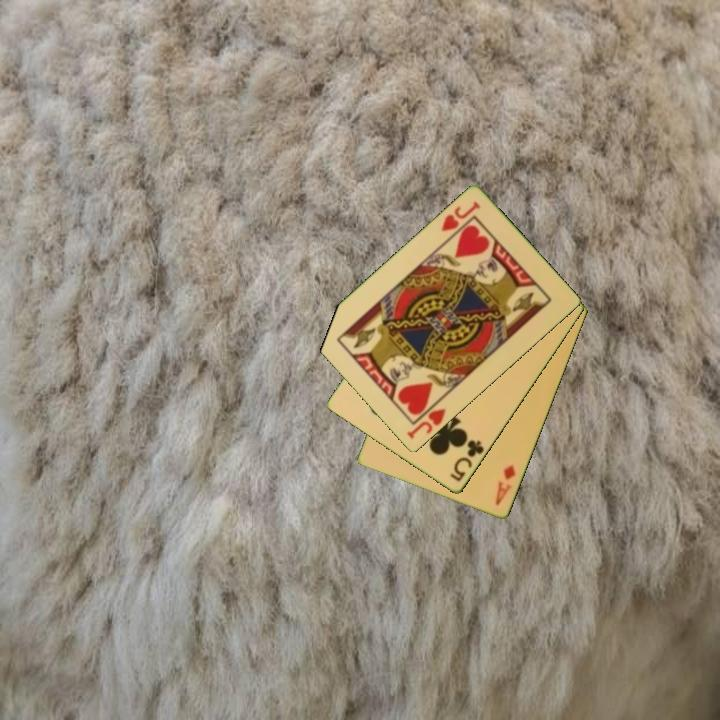5c: (446, 436, 487, 485)
Ad: (492, 461, 519, 509)
Jh: (403, 396, 449, 442), (438, 198, 484, 235)
